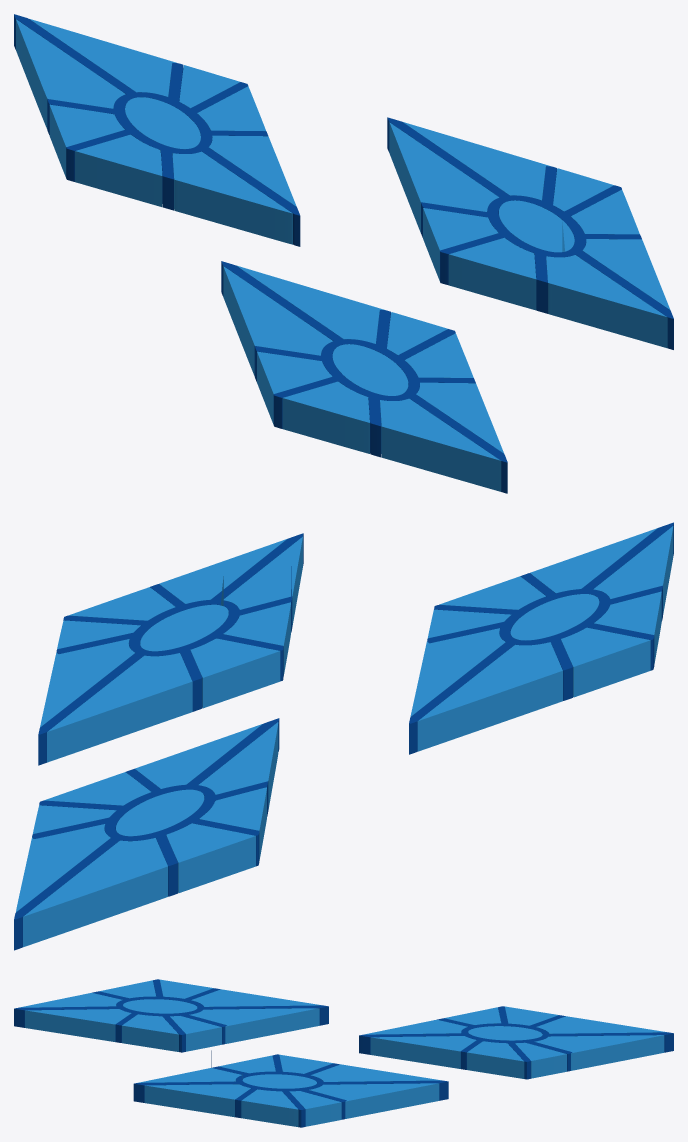
Rendered from rarity.obj.
3 renders of one model, top to bottom at view 1: azimuth 30°, elevation 25°; view 2: azimuth 150°, elevation 25°; view 3: azimuth 270°, elevation 25°, orthographic. The views are drawn at different scales.
Parts seen in each view (by area): view 1: path10; view 2: path10; view 3: path10.
Part boxes in pixels (x1=…): path10: x1=14, y1=14, x2=673, y2=493; path10: x1=14, y1=522, x2=673, y2=950; path10: x1=14, y1=979, x2=673, y2=1127.
Size of the model in its own units: 0.1591 by 0.02 by 0.3394.
